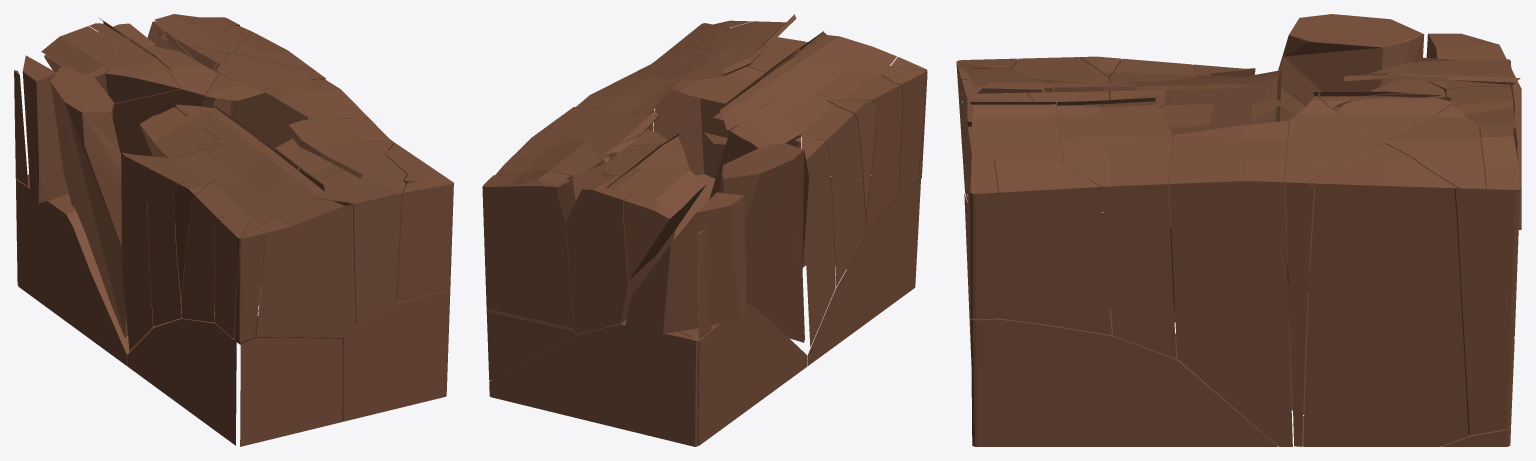
Rendered from CardboardBox_2_Fracture.fbx.
3 views of the same model, side by side, from view 1: azimuth 30°, elevation 25°; view 2: azimuth 150°, elevation 25°; view 3: azimuth 270°, elevation 25° (orthographic). The views are drawn at different scales.
Parts seen in each view (by area): view 1: Cube.002_cell.023, Cube.002_cell.020, Cube.002_cell.030, Cube.002_cell.002, Cube.002_cell.031, Cube.002_cell.042, Cube.002_cell.010, Cube.002_cell.032, Cube.002_cell.022, Cube.002_cell.037, Cube.002_cell.021, Cube.002_cell.018 (+19 smaller); view 2: Cube.002_cell.034, Cube.002_cell.004, Cube.002_cell.002, Cube.002_cell.025, Cube.002_cell.031, Cube.002_cell.023, Cube.002_cell.045, Cube.002_cell.010, Cube.002_cell.006, Cube.002_cell.032, Cube.002_cell.017, Cube.002_cell.021 (+19 smaller); view 3: Cube.002_cell.015, Cube.002_cell.030, Cube.002_cell.019, Cube.002_cell.021, Cube.002_cell.005, Cube.002_cell.006, Cube.002_cell.002, Cube.002_cell.009, Cube.002_cell.016, Cube.002_cell.029, Cube.002_cell.004, Cube.002_cell.022 (+20 smaller).
Boxes of the visible parts, x1,y1,x2,y2 form: Cube.002_cell.023: (127,319,342,446); Cube.002_cell.020: (249,197,355,337); Cube.002_cell.030: (234,289,450,421); Cube.002_cell.002: (50,66,151,337); Cube.002_cell.031: (16,177,261,365); Cube.002_cell.042: (311,171,406,323); Cube.002_cell.010: (146,142,259,326); Cube.002_cell.032: (181,152,287,322); Cube.002_cell.022: (397,174,453,302); Cube.002_cell.037: (120,152,166,350); Cube.002_cell.021: (258,118,394,181); Cube.002_cell.018: (112,46,224,221); Cube.002_cell.034: (489,319,698,446); Cube.002_cell.004: (482,170,573,327); Cube.002_cell.002: (719,142,808,342); Cube.002_cell.025: (625,192,746,333); Cube.002_cell.031: (678,304,807,445); Cube.002_cell.023: (807,176,920,366); Cube.002_cell.045: (566,175,655,334); Cube.002_cell.010: (763,76,865,286); Cube.002_cell.006: (486,142,605,380); Cube.002_cell.032: (781,58,902,235); Cube.002_cell.017: (623,169,709,280); Cube.002_cell.021: (626,45,797,145); Cube.002_cell.015: (1303,143,1468,446); Cube.002_cell.030: (971,309,1277,446); Cube.002_cell.019: (1169,181,1292,446); Cube.002_cell.021: (1053,82,1176,358); Cube.002_cell.005: (994,158,1111,335); Cube.002_cell.006: (1385,104,1514,435); Cube.002_cell.002: (1278,14,1424,283); Cube.002_cell.009: (1285,92,1384,446); Cube.002_cell.016: (1169,120,1288,183); Cube.002_cell.029: (970,102,1062,162); Cube.002_cell.004: (1480,125,1520,336); Cube.002_cell.022: (969,147,998,319).
Size of the model in its own units: 67.48 by 66.2 by 112.
